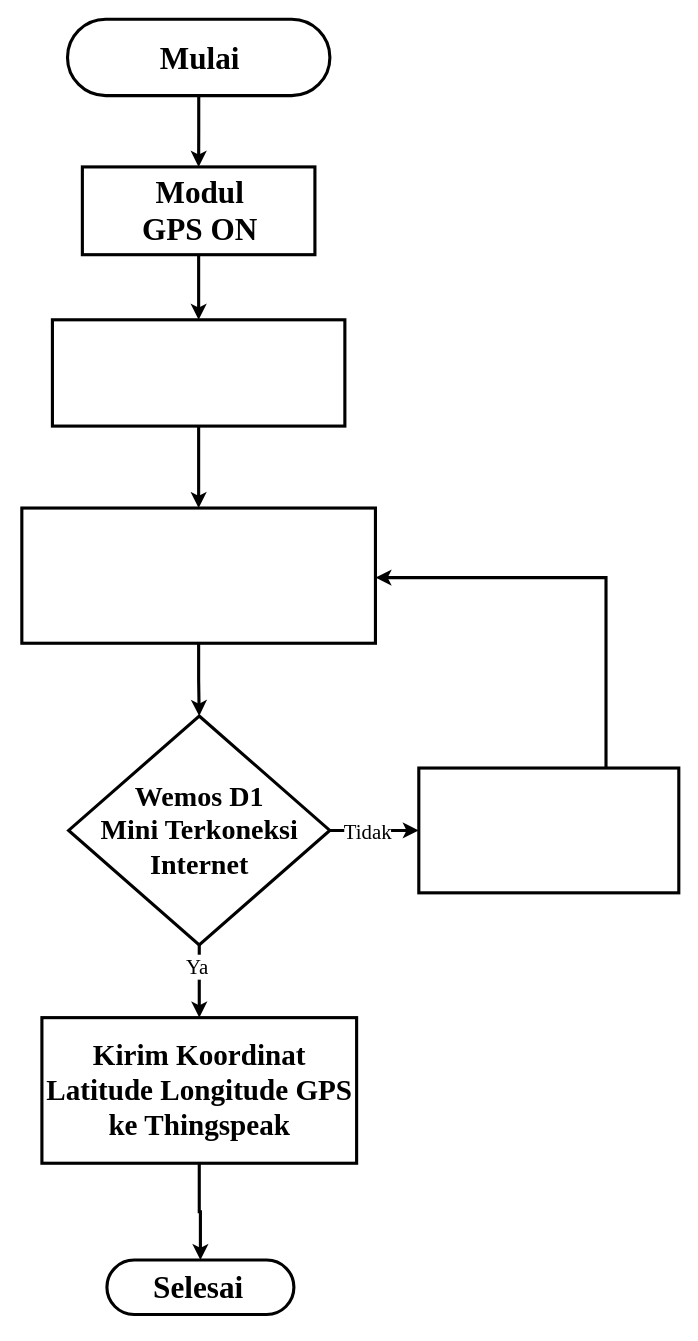
Image size: 698x1341. Some labels were removed from this diagram. The centre of each missing label's shape, as x and y in pixels:
Proses pencarian titik koordinat GPS: the point at 198,372
Simpan Data ke Memory Micro SD: the point at 548,830
Wemos D1 Mini menerima titik koordinat latitude longitude GPS: the point at 198,575
